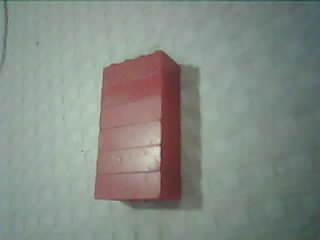lego: (93, 51, 182, 201)
